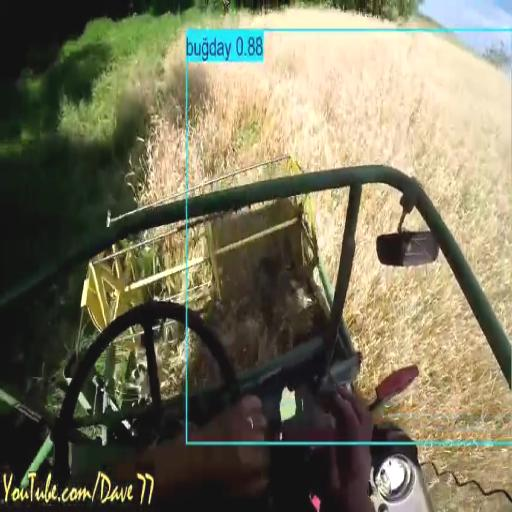bugday: (189, 33, 511, 333), (347, 186, 511, 433), (139, 33, 184, 201), (422, 447, 511, 490), (238, 9, 377, 27)
